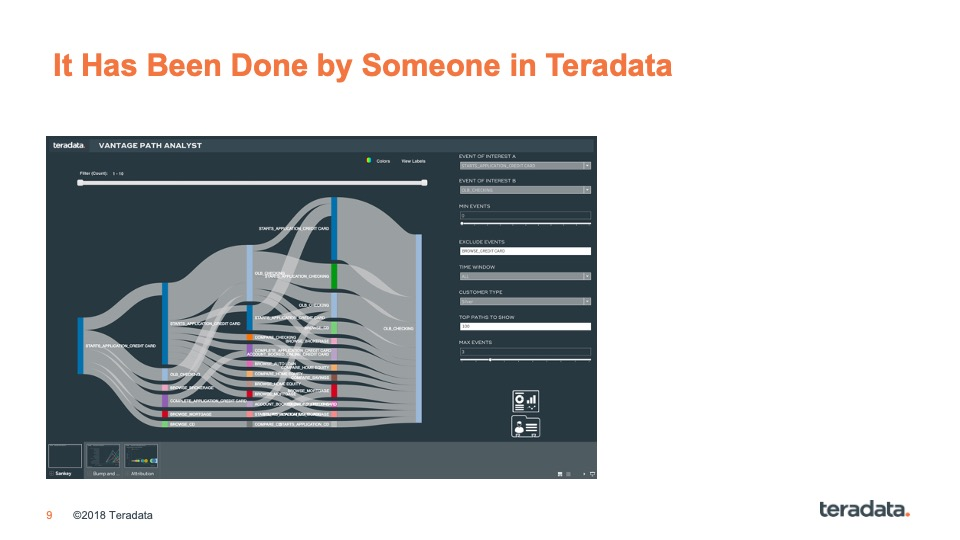

This screenshot's page, from the dashboard's own definition file:
{"tool":"tableau","page":{"name":"Sankey","canvas":[1000,1000],"units":"permille","ordinal":0},"visuals":[{"type":"image","param":"/Users/fr186005/Desktop/320px-Teradata_logo_2018.png","box":[7.5,12.6,79.5,48.2]},{"type":"text","box":[87,12.6,577.2,48.2]},{"type":"worksheet","title":"Path","mark":"Automatic","rows":["Path"],"cols":["Cnt"],"box":[664.2,12.6,328.3,48.2]},{"type":"dashboard-object","param":"[com.teradata.tableau.extensions.sankey].[0.1.0].[http://localhost:8080/sankey-p","box":[7.5,60.8,870.9,926.6]},{"type":"filter","title":"Path","param":"[federated.0p904yn1rksk7c170rla31s4vjk7].[min:Cnt:qk]","box":[878.4,60.8,114.1,108.7]}]}

Visuals, with their boxes on the dashboard's canvas, which has no fixed pixel size, in thousandths of its width and height (x1, y1, x2, y2). These are canvas units, not pixel positions in the 960x540 screenshot, which may show the page scaled, cropped or inside an application window:
image: 8 13 87 61
text: 87 13 664 61
"Path" worksheet: 664 13 992 61
dashboard-object: 8 61 878 987
"Path" filter: 878 61 992 170
